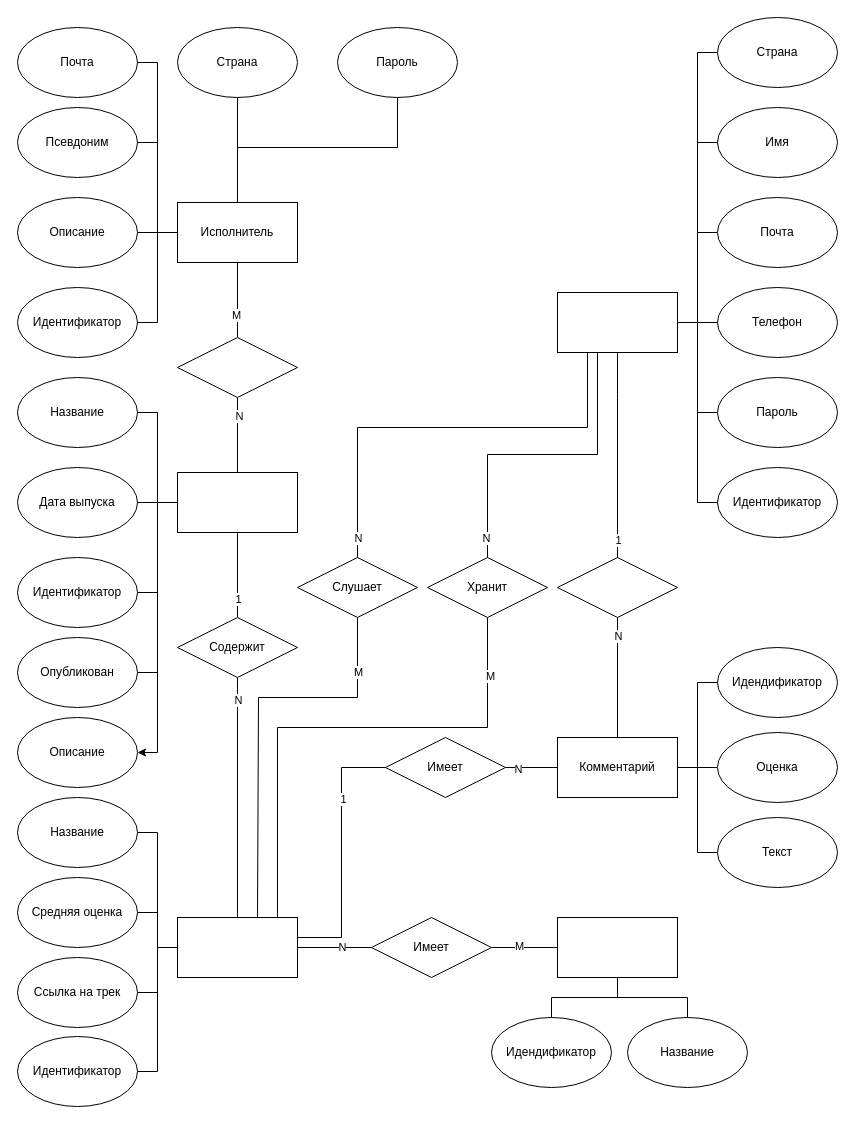
Image size: 855x1124. Some labels were removed from this diagram. The shapes that lost their labels are listed below. From the top down, each one's centre as x and y in pixels, then its label:
At (x=617, y=322): "Пользователь".
At (x=237, y=367): "Владеет".
At (x=237, y=502): "Альбом".
At (x=617, y=587): "Публикует".
At (x=237, y=947): "Трек".
At (x=617, y=947): "Жанр".
